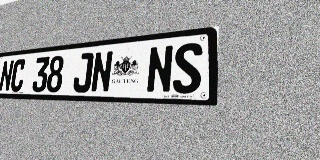3: (31, 56, 50, 92)
8: (46, 55, 65, 92)
C: (9, 59, 27, 92)
J: (72, 52, 94, 93)
N: (146, 45, 174, 93), (90, 50, 114, 93), (0, 60, 14, 92)
S: (172, 42, 203, 94)
